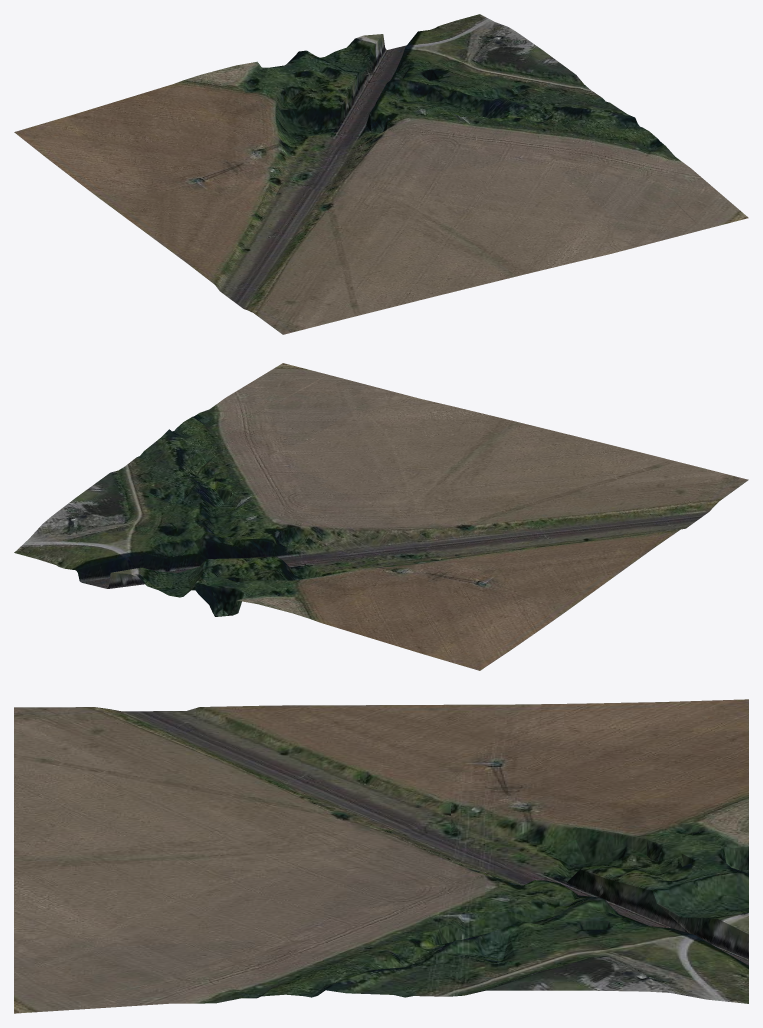
The model's file is map_13_2043_3444.dae.
The picture shows the model from 3 angles, top to bottom: view 1: azimuth 30°, elevation 25°; view 2: azimuth 150°, elevation 25°; view 3: azimuth 270°, elevation 25°; orthographic projection. The views are drawn at different scales.
Visible parts, largest first — view 1: Ter0; view 2: Ter0; view 3: Ter0.
Part boxes in pixels (x1,y1,x2,y2): Ter0: (14,14,748,334); Ter0: (14,363,748,670); Ter0: (14,699,748,1013).
Size of the model in its own units: 256 by 256 by 15.73.
3 materials, 3 textured.
